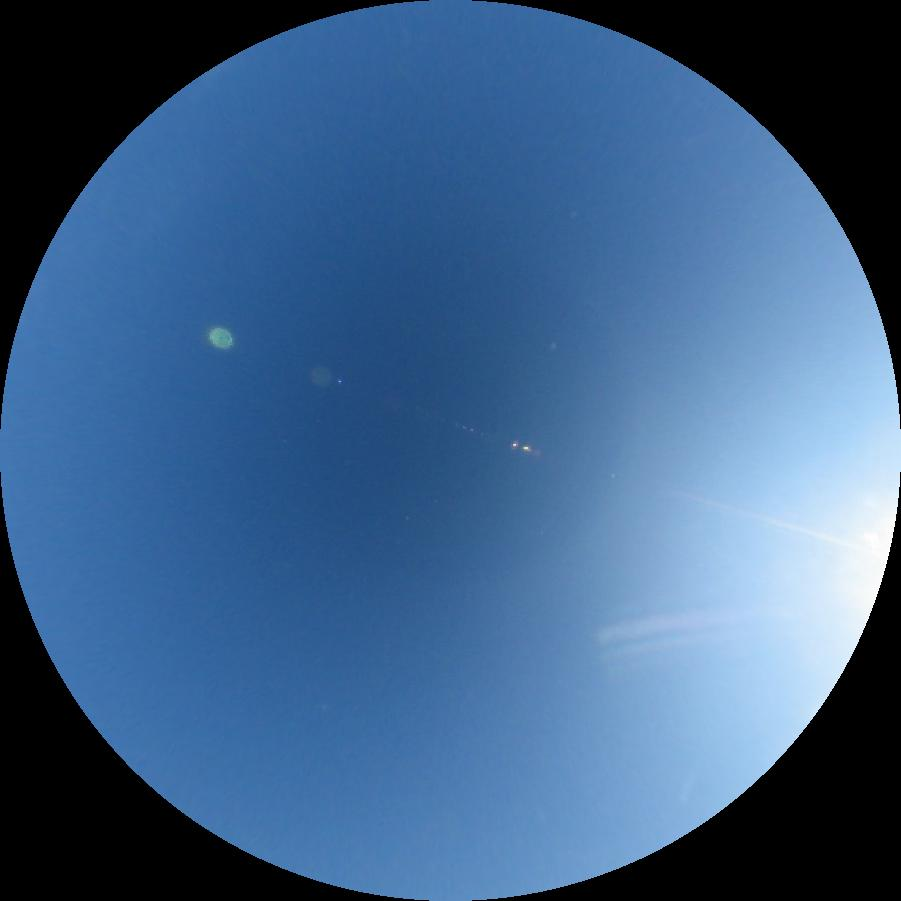parasite: (685, 492, 853, 549), (598, 608, 747, 645), (608, 632, 730, 657)
